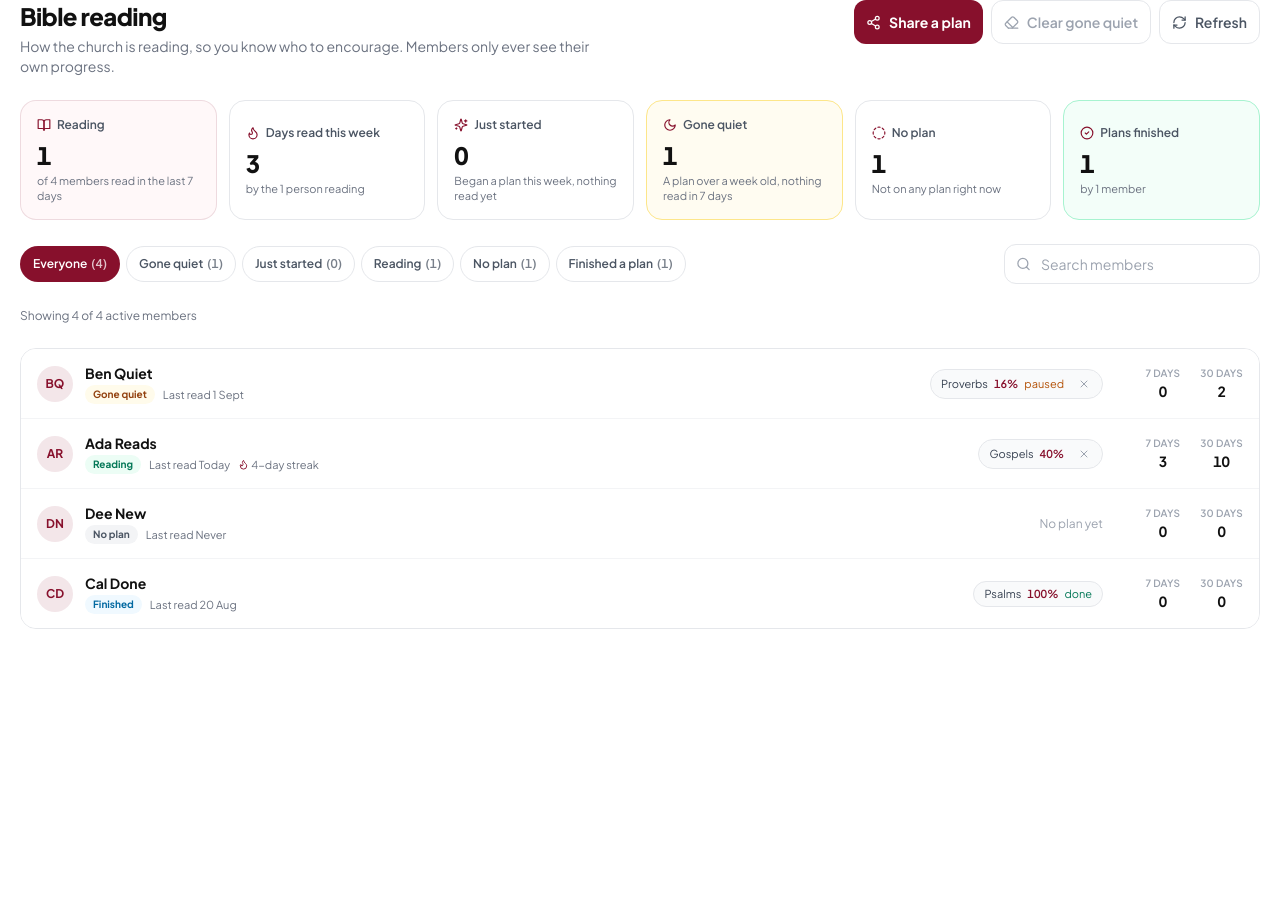
Test: removing one member's plan › asks first, then removes the plan and says their history stays
Click the button named "Remove Proverbs from Ben Quiet". click: coordinates (1084, 384)
box: [1070,370,1098,398]
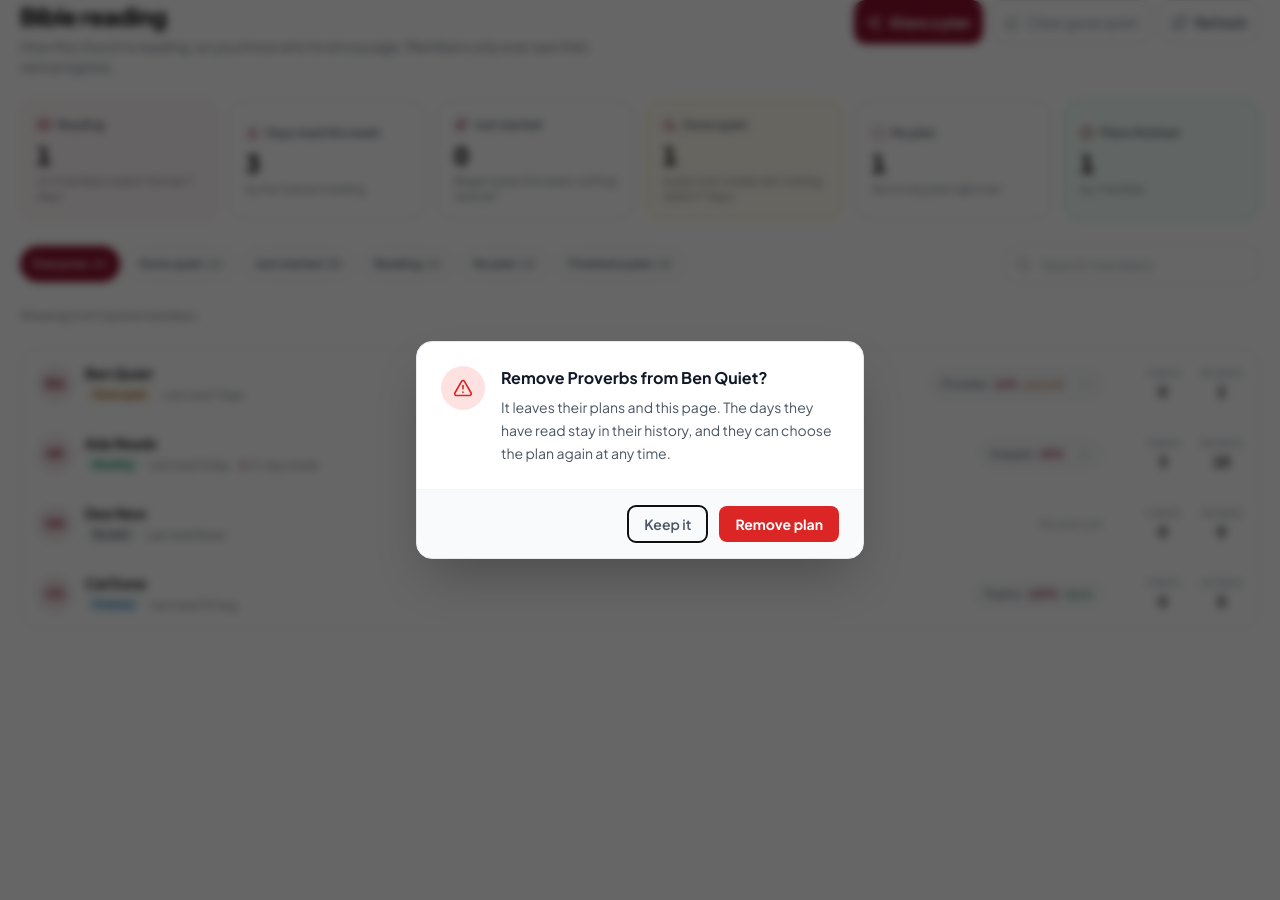
Result: the dialog "Remove Proverbs from Ben Quiet?" shows "The days they have read stay in their history" at [501,398,832,462]
Click the button "Remove plan". click: coordinates (779, 524)
box: [720,506,839,542]
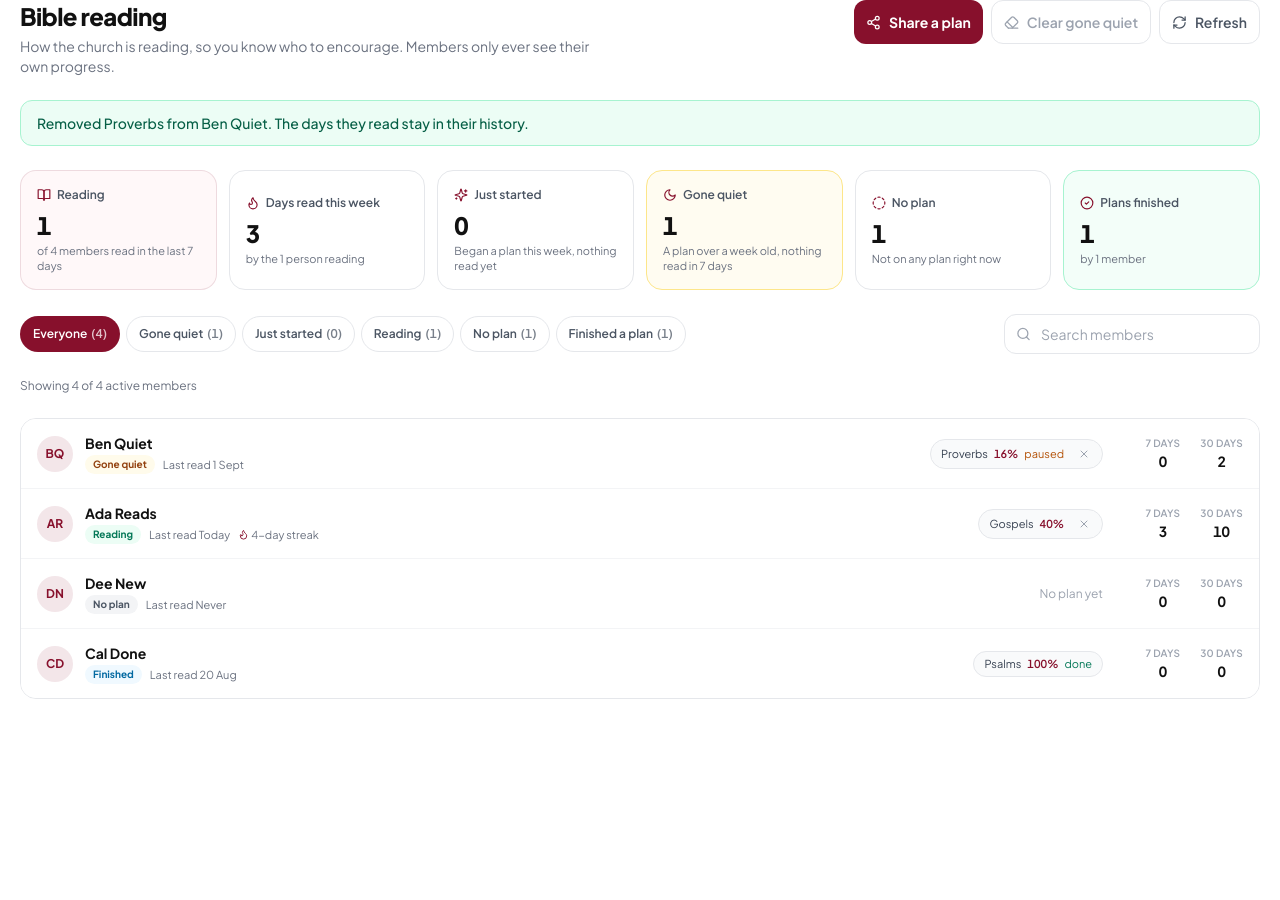
Result: the text "Removed Proverbs from Ben Quiet. The days they read stay in their history." is shown at [20,100,1260,146]
